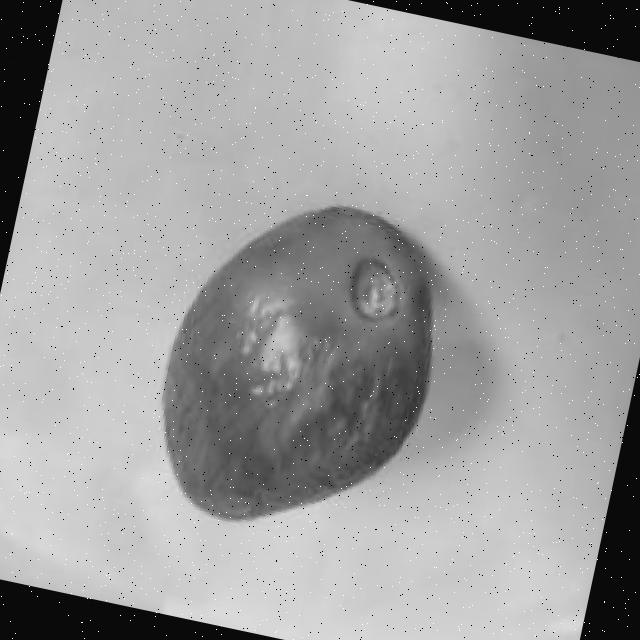overripe: (132, 172, 465, 562)
